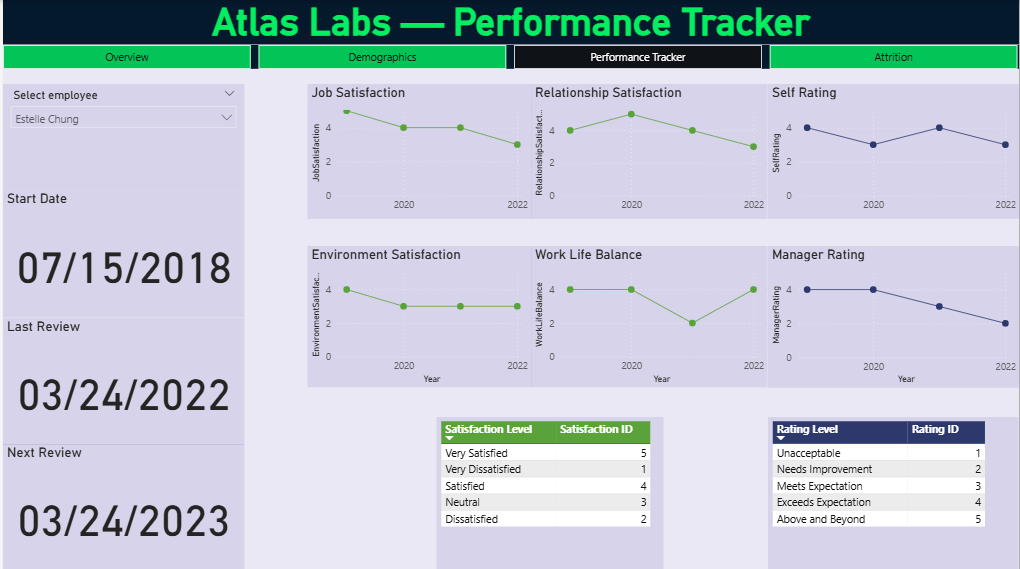

Layout of this report page (visuals, bound fields, positions):
{"tool":"powerbi","page":{"name":"Performance Tracker","canvas":[1280,720],"ordinal":2},"visuals":[{"type":"slicer","fields":{"Values":["DimEmployee.FullName"]},"box":[0,106,304,134],"z":0},{"type":"card","title":"Start Date","fields":{"Values":["Min(DimEmployee.HireDate)"]},"box":[0,240,304,160],"z":1000},{"type":"card","title":"Last Review","fields":{"Values":["_Measures.LastReviewDate"]},"box":[0,400,304,160],"z":2000},{"type":"card","title":"Next Review","fields":{"Values":["_Measures.NextReviewDate"]},"box":[0,560,304,160],"z":3000},{"type":"lineChart","title":"Job Satisfaction","fields":{"Y":["_Measures.JobSatisfaction"],"Category":["DimDate.Year"]},"box":[384,106,282,170],"z":4000},{"type":"tableEx","fields":{"Values":["DimSatisfiedLevel.SatisfactionLevel","DimSatisfiedLevel.SatisfactionID"]},"box":[546,526,286,194],"z":5000},{"type":"lineChart","title":"Relationship Satisfaction","fields":{"Y":["_Measures.RelationshipSatisfaction"],"Category":["DimDate.Year"]},"box":[666,106,298,170],"z":6000},{"type":"shape","title":"Atlas Labs — Performance Tracker","box":[0,0,1280,56],"z":7000},{"type":"lineChart","title":"Self Rating","fields":{"Y":["_Measures.SelfRating"],"Category":["DimDate.Year"]},"box":[963.2,106,316.8,170.3],"z":8000},{"type":"lineChart","title":"Work Life Balance","fields":{"Y":["_Measures.WorkLifeBalance"],"Category":["DimDate.Year"]},"box":[666,310,298,178],"z":9000},{"type":"tableEx","fields":{"Values":["DimRatingLevel.RatingLevel","DimRatingLevel.RatingID"]},"box":[964,526,316,192],"z":10000},{"type":"lineChart","title":"Manager Rating","fields":{"Y":["_Measures.ManagerRating"],"Category":["DimDate.Year"]},"box":[963.2,309.4,316.8,178.6],"z":11000},{"type":"lineChart","title":"Environment Satisfaction","fields":{"Y":["_Measures.EnvironmentSatisfaction"],"Category":["DimDate.Year"]},"box":[384,310,282,178],"z":12000},{"type":"pageNavigator","box":[0,56,1280,30],"z":13000}]}

Visuals, with their boxes in screenshot pixels (x1, y1, x2, y2), scaled from the page's 1280x720 canvas onto the 1020x569 screenshot:
slicer - DimEmployee.FullName: (0,84,242,190)
"Start Date" card: (0,190,242,316)
"Last Review" card: (0,316,242,443)
"Next Review" card: (0,443,242,568)
"Job Satisfaction" lineChart: (306,84,531,218)
tableEx - DimSatisfiedLevel.SatisfactionLevel x DimSatisfiedLevel.SatisfactionID: (435,416,663,568)
"Relationship Satisfaction" lineChart: (531,84,768,218)
"Atlas Labs — Performance Tracker" shape: (0,0,1019,44)
"Self Rating" lineChart: (768,84,1019,218)
"Work Life Balance" lineChart: (531,245,768,386)
tableEx - DimRatingLevel.RatingLevel x DimRatingLevel.RatingID: (768,416,1019,567)
"Manager Rating" lineChart: (768,245,1019,386)
"Environment Satisfaction" lineChart: (306,245,531,386)
pageNavigator: (0,44,1019,68)
